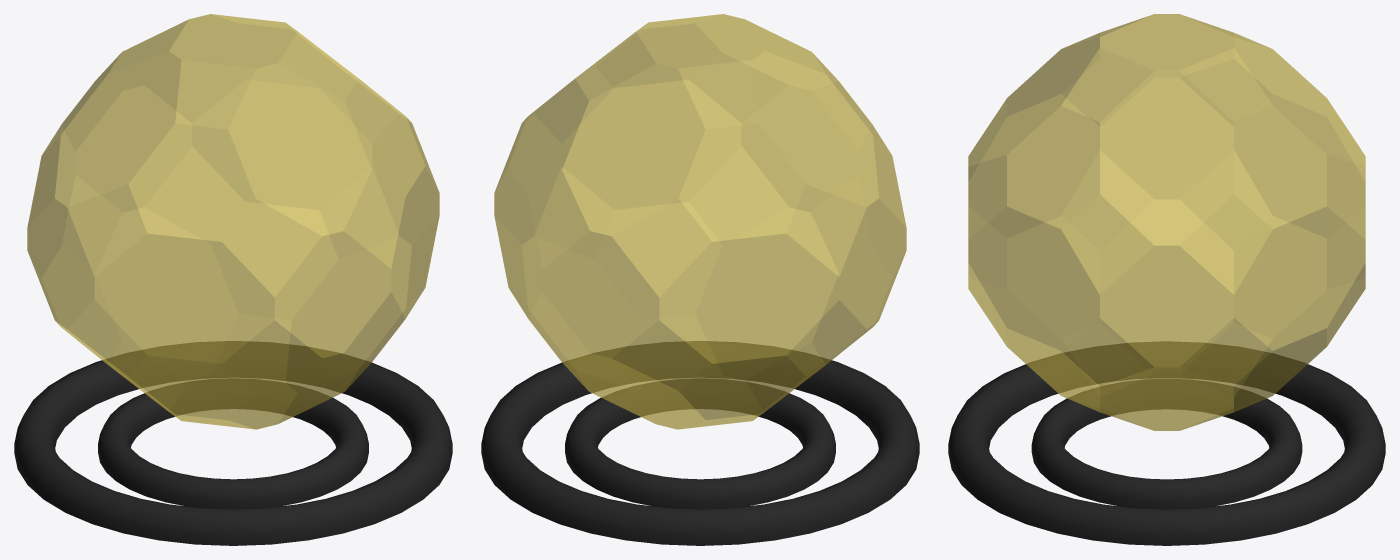
File: goal_noanim.fbx
3 views of the same model, side by side, from view 1: azimuth 30°, elevation 25°; view 2: azimuth 150°, elevation 25°; view 3: azimuth 270°, elevation 25° (orthographic).
Visible parts, largest first — view 1: goal, goalbase; view 2: goal, goalbase; view 3: goal, goalbase.
Boxes of the visible parts, box(x1,y1,x2,y2) form: goal: box(27, 14, 439, 429); goalbase: box(14, 341, 452, 545); goal: box(494, 14, 906, 429); goalbase: box(481, 341, 919, 545); goal: box(968, 14, 1365, 430); goalbase: box(948, 341, 1385, 545).
Bounding box in the file's own units: 122 × 127 × 122.
